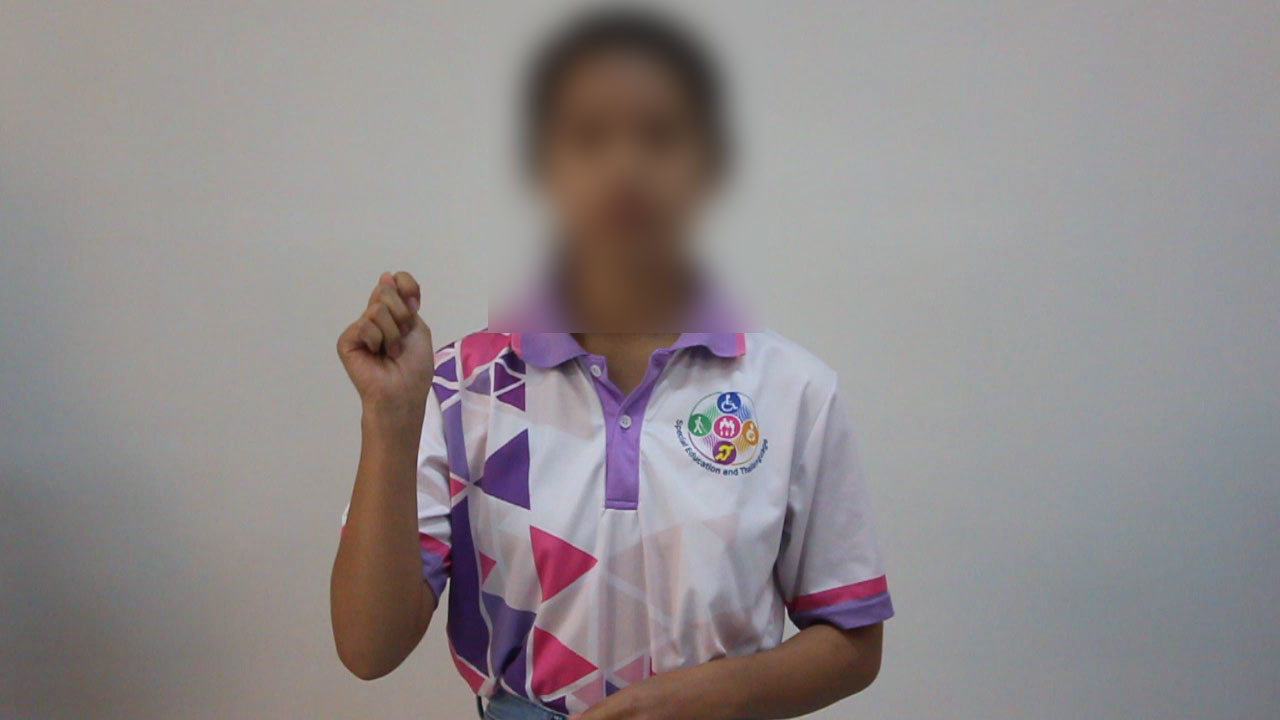tor: (325, 259, 465, 436)
